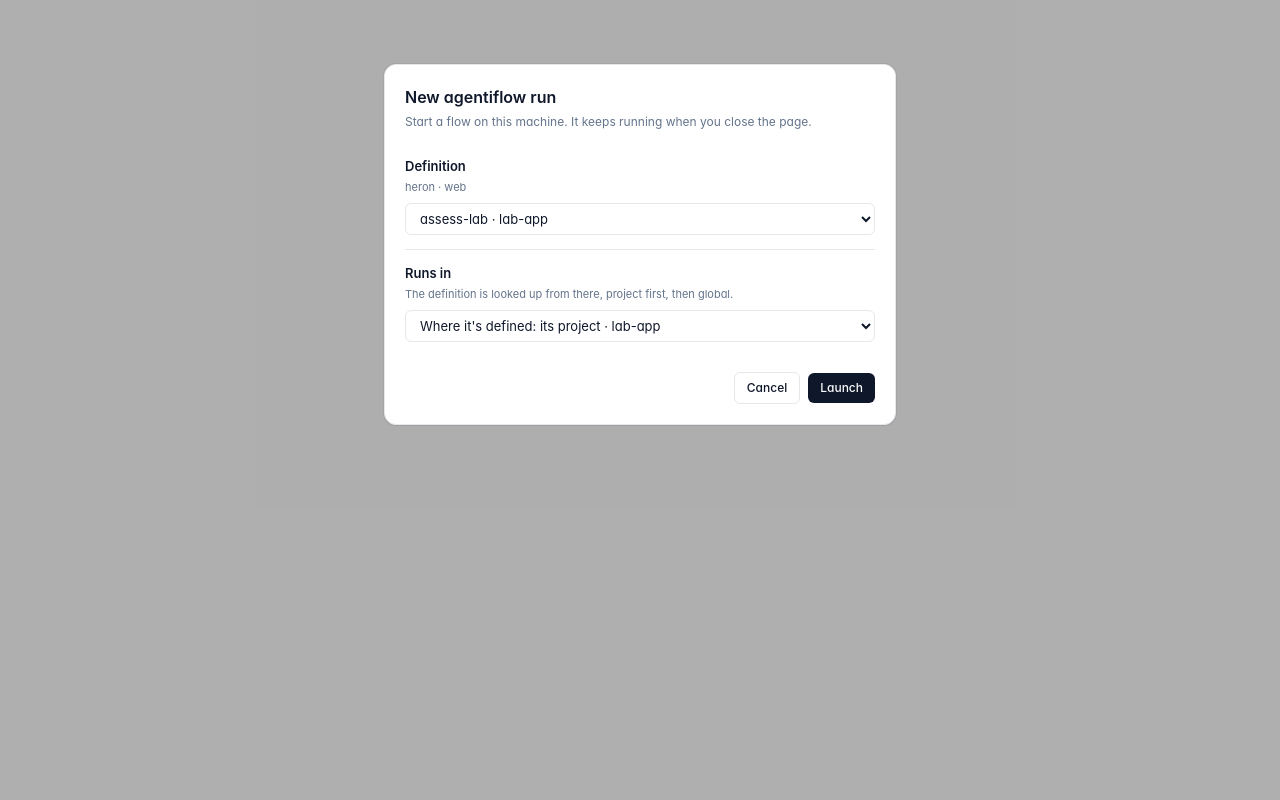
AgentiflowLauncherSheet › a flow still starting after 30 s stays open with its log and a link
The image size is (1280, 800).
Click the button "Launch". click: [842, 388]
box: [808, 373, 875, 403]
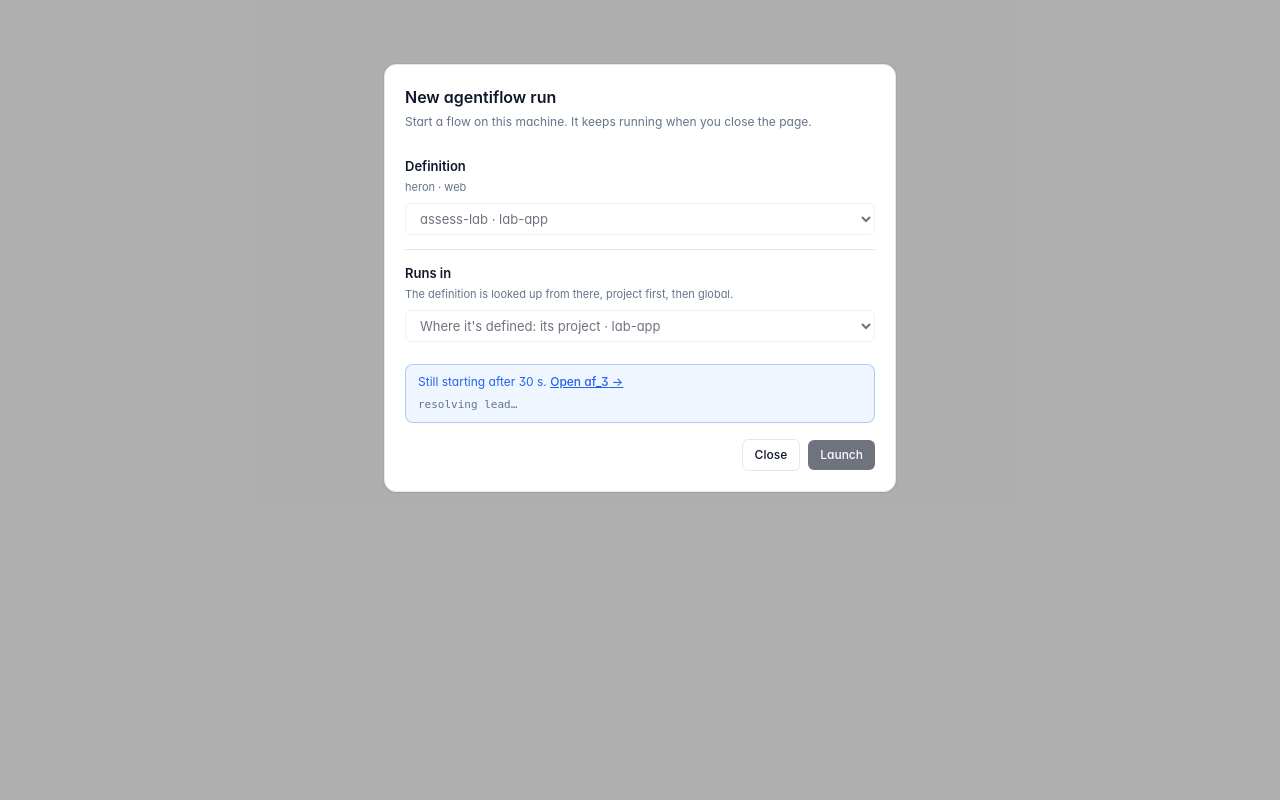
Expected: the text "Still starting after 30 s. Open af_3 →" is shown, [418, 374, 623, 389]
Expected: the text "resolving lead…" is shown, [418, 398, 517, 411]
